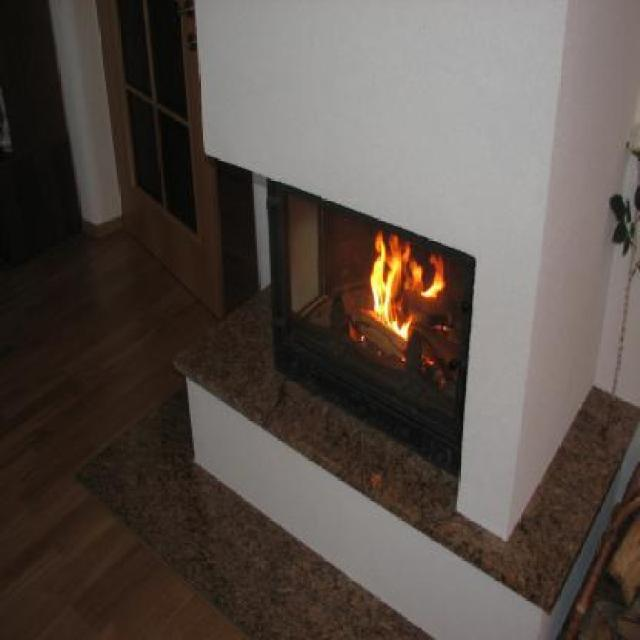Fire: (362, 232, 418, 346), (419, 255, 444, 302)
